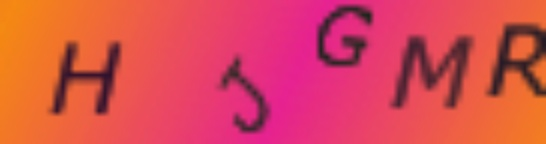G: (314, 3, 377, 70)
H: (47, 35, 125, 118)
J: (217, 50, 273, 136)
M: (386, 34, 477, 111)
R: (487, 20, 546, 101)
